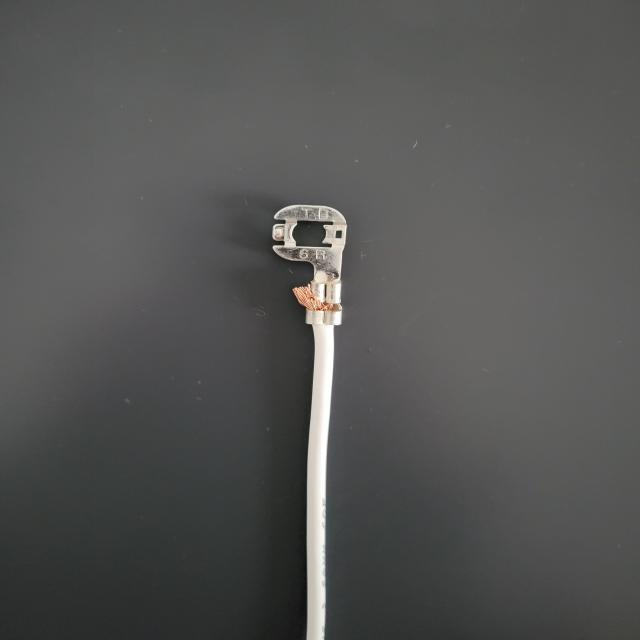defect: (279, 272, 381, 361)
